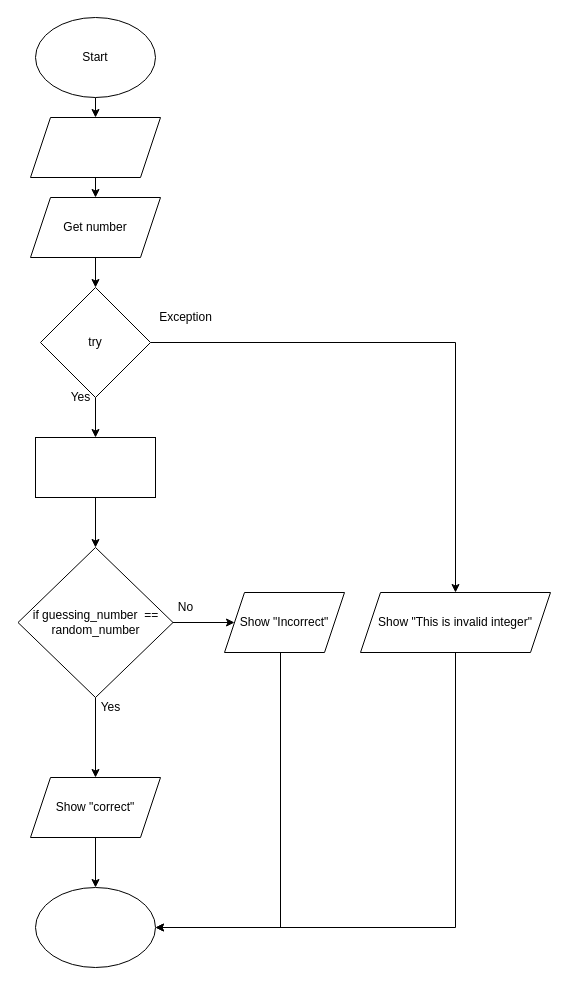
This 568x985 diagram has some shape labels left out. Each missing label, with the centre of its shape:
"covert string to int" belongs at point (95, 467).
"Generate random_number" belongs at point (95, 147).
"Stop" belongs at point (95, 927).
